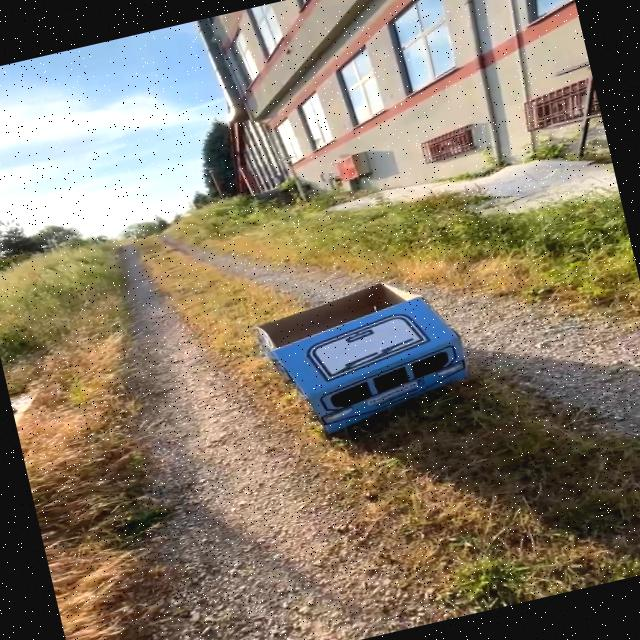blue_car: (216, 233, 527, 482)
